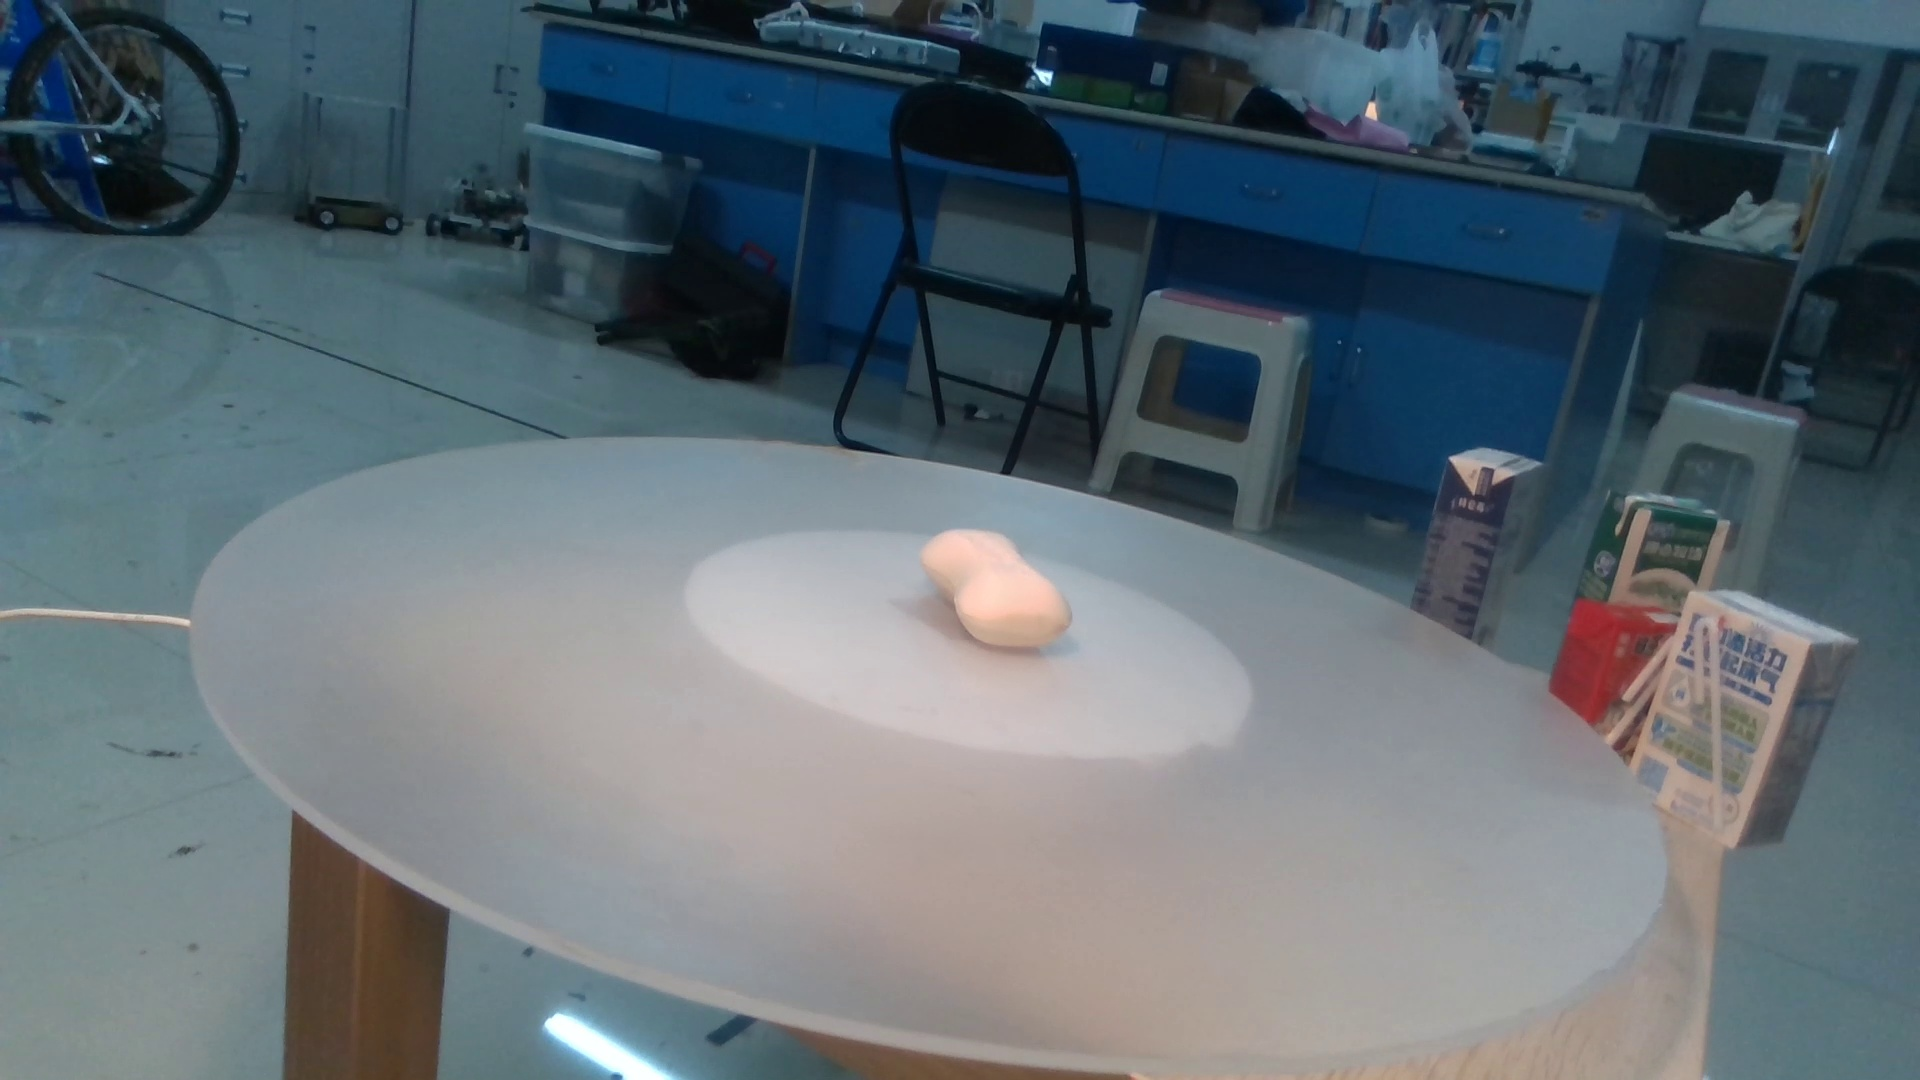CA003_1: (880, 512, 1116, 670)
